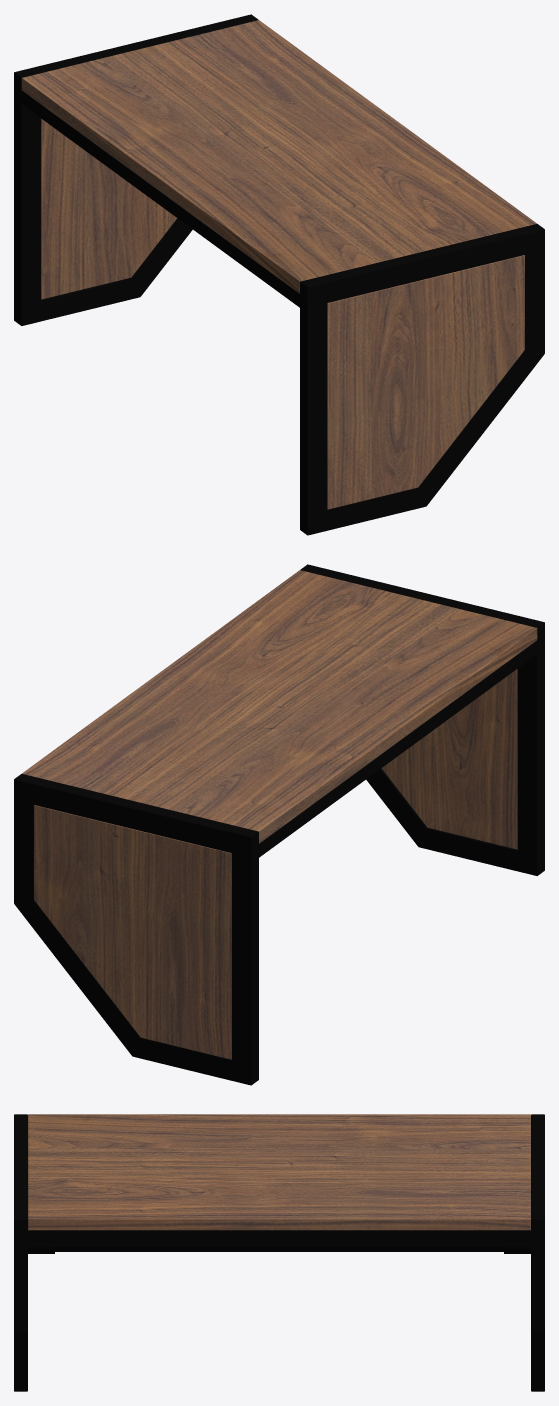
File: Clothrack.glb
3 views of the same model, one above another, from view 1: azimuth 30°, elevation 25°; view 2: azimuth 150°, elevation 25°; view 3: azimuth 270°, elevation 25° (orthographic). The views are drawn at different scales.
Parts seen in each view (by area): view 1: wood, metal; view 2: wood, metal; view 3: wood, metal.
Boxes of the visible parts, x1,y1,x2,y2 form: wood: [21, 20, 536, 509]; metal: [14, 14, 544, 535]; wood: [22, 570, 537, 1059]; metal: [14, 564, 544, 1085]; wood: [28, 1114, 530, 1230]; metal: [14, 1114, 544, 1391].
Size of the model in its own units: 0.6414 by 0.6414 by 1.37.
Materials: 2 (1 with a texture image).
